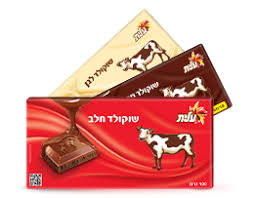Chocolate: (23, 94, 211, 198), (31, 6, 204, 113), (87, 42, 238, 121)
